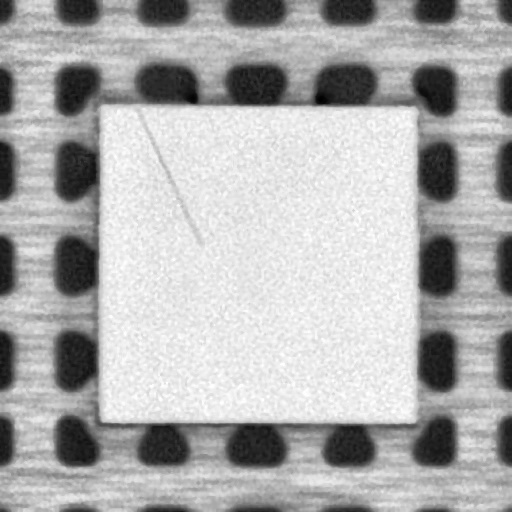DIE_CRACK: (133, 108, 203, 249)
